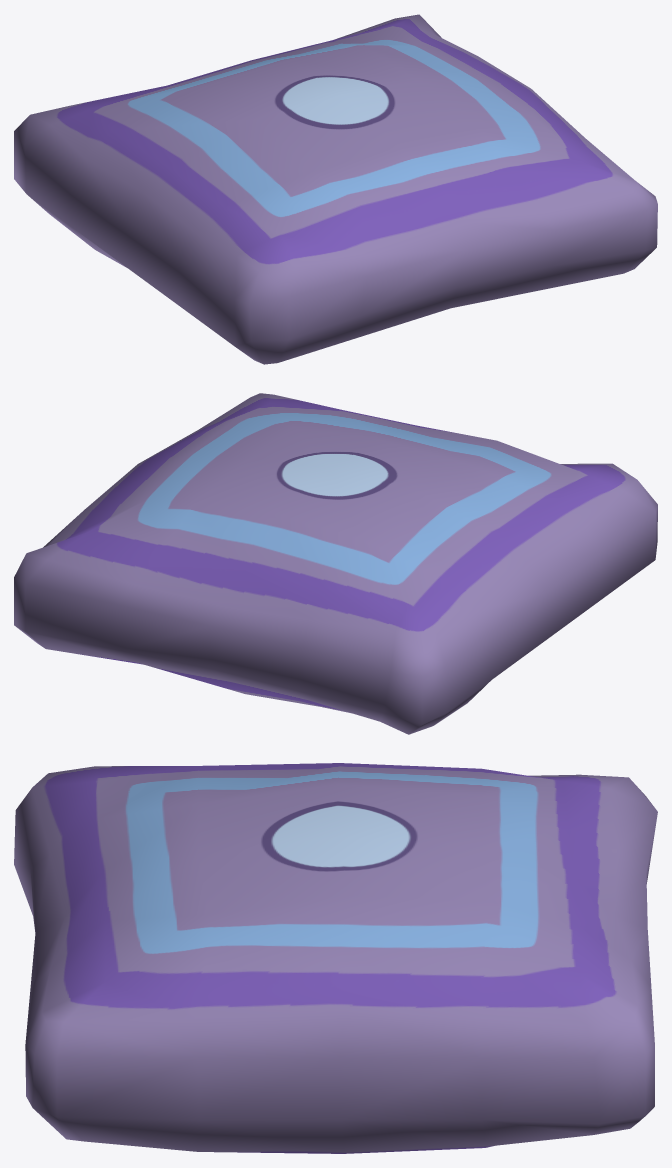
File: cushion.fbx
The picture shows the model from 3 angles, top to bottom: view 1: azimuth 30°, elevation 25°; view 2: azimuth 150°, elevation 25°; view 3: azimuth 270°, elevation 25°; orthographic projection. The views are drawn at different scales.
Parts seen in each view (by area): view 1: Cube; view 2: Cube; view 3: Cube.
Boxes of the visible parts, x1,y1,x2,y2 form: Cube: (14, 14, 657, 364); Cube: (14, 393, 657, 734); Cube: (14, 763, 657, 1153).
Bounding box in the file's own units: 1.24 × 0.5252 × 1.25.
